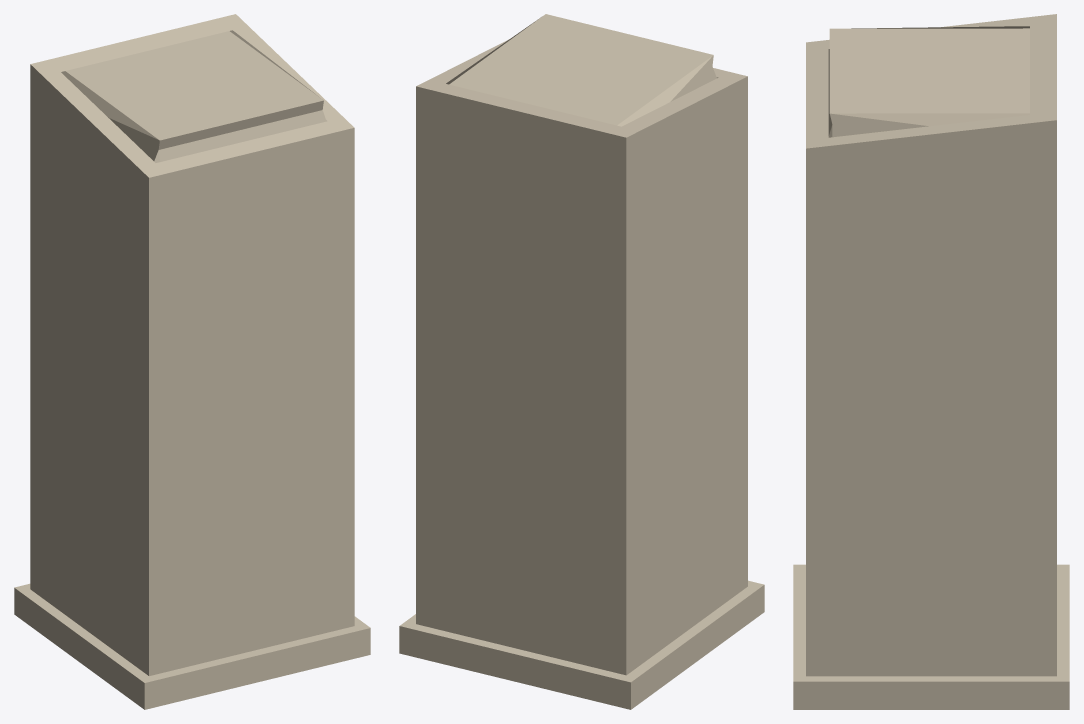
File: building_model.gltf
3 views of the same model, side by side, from view 1: azimuth 30°, elevation 25°; view 2: azimuth 150°, elevation 25°; view 3: azimuth 270°, elevation 25° (orthographic). The views are drawn at different scales.
Parts seen in each view (by area): view 1: Cube; view 2: Cube; view 3: Cube.
Part boxes in pixels (x1,y1,x2,y2): Cube: (14, 14, 370, 709); Cube: (399, 14, 764, 709); Cube: (793, 14, 1069, 709).
Bounding box in the file's own units: 2.2 × 5.13 × 2.2.
